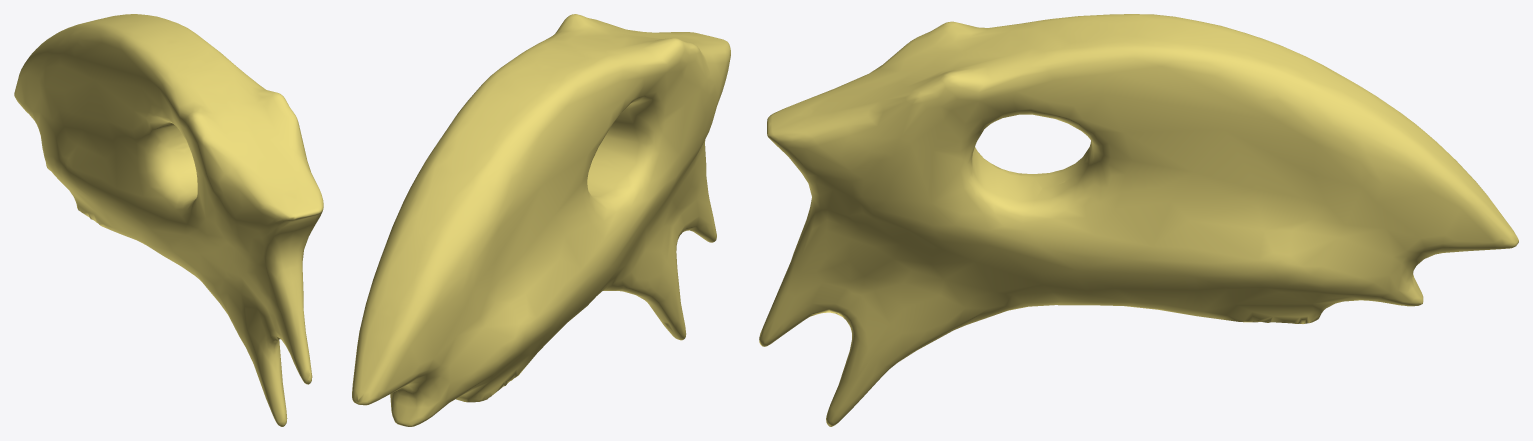
The model's file is third-ventricle.glb.
3 views of the same model, side by side, from view 1: azimuth 30°, elevation 25°; view 2: azimuth 150°, elevation 25°; view 3: azimuth 270°, elevation 25° (orthographic). The views are drawn at different scales.
Visible parts, largest first — view 1: Third ventricle; view 2: Third ventricle; view 3: Third ventricle.
Part boxes in pixels (bbox=[...]): Third ventricle: bbox=[14, 14, 323, 426]; Third ventricle: bbox=[352, 14, 730, 426]; Third ventricle: bbox=[759, 14, 1518, 426].
Size of the model in its own units: 0.00757 by 0.0224 by 0.0389.
